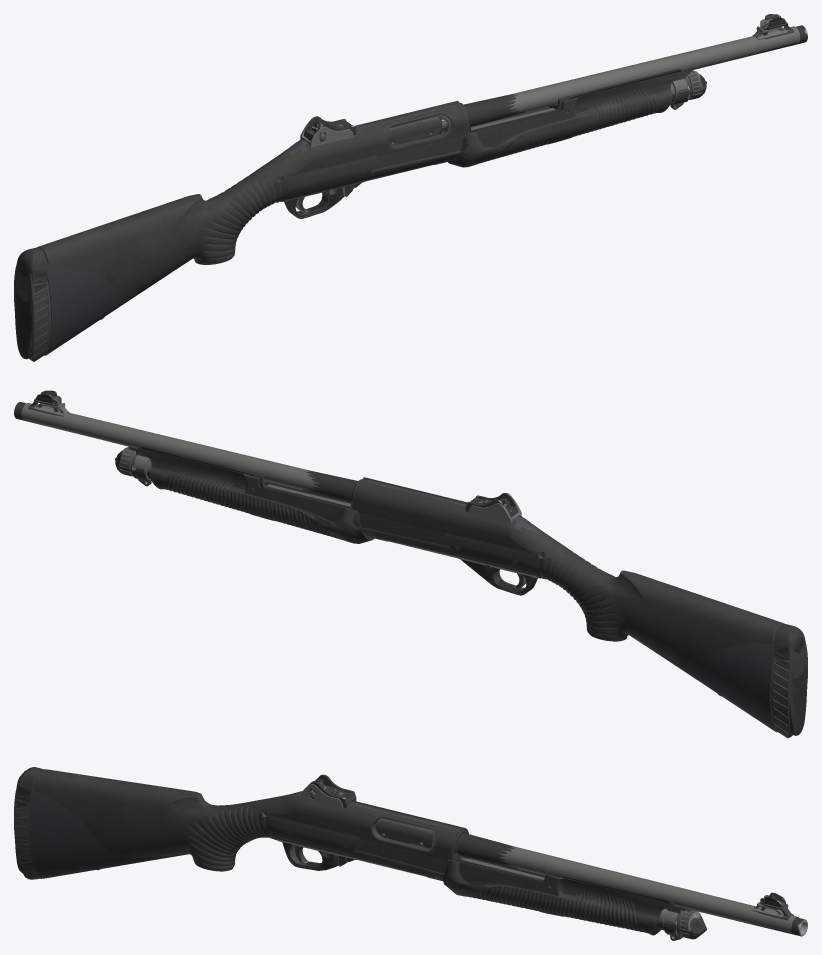
The model's file is weapon_nova.glb.
3 renders of one model, top to bottom at view 1: azimuth 30°, elevation 25°; view 2: azimuth 150°, elevation 25°; view 3: azimuth 330°, elevation 25°, orthographic.
Parts seen in each view (by area): view 1: weapons/models/nova/weapon_shot_nova.vmdl_c.body_hd, weapons/models/nova/weapon_shot_nova.vmdl_c.body_legacy; view 2: weapons/models/nova/weapon_shot_nova.vmdl_c.body_hd, weapons/models/nova/weapon_shot_nova.vmdl_c.body_legacy; view 3: weapons/models/nova/weapon_shot_nova.vmdl_c.body_hd, weapons/models/nova/weapon_shot_nova.vmdl_c.body_legacy.
Part boxes in pixels (x1,y1,x2,y2): weapons/models/nova/weapon_shot_nova.vmdl_c.body_hd: (14, 14, 807, 359); weapons/models/nova/weapon_shot_nova.vmdl_c.body_legacy: (14, 19, 800, 361); weapons/models/nova/weapon_shot_nova.vmdl_c.body_hd: (14, 390, 807, 735); weapons/models/nova/weapon_shot_nova.vmdl_c.body_legacy: (21, 395, 807, 738); weapons/models/nova/weapon_shot_nova.vmdl_c.body_hd: (15, 767, 807, 940); weapons/models/nova/weapon_shot_nova.vmdl_c.body_legacy: (14, 784, 798, 936).
Bounding box in the file's own units: 40.18 × 8.34 × 2.1.
3 materials, 3 textured.
